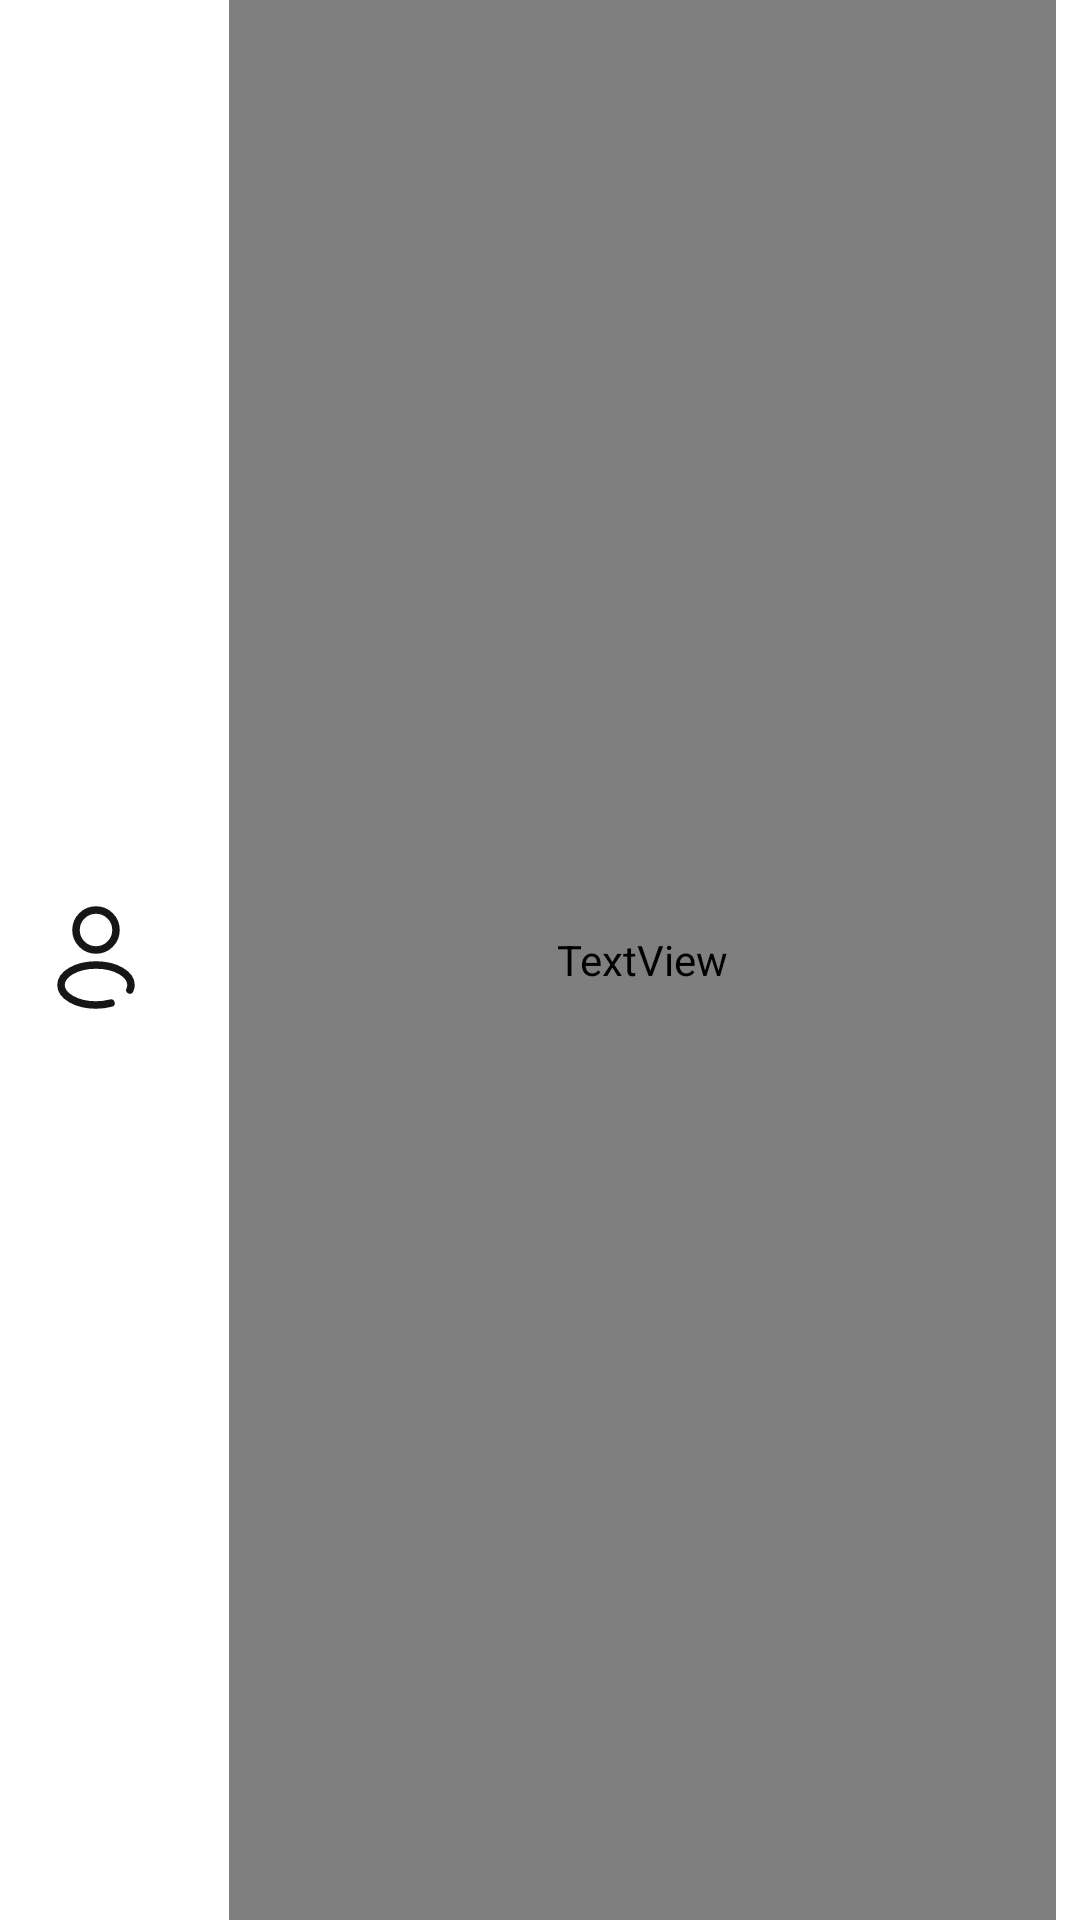

Locate icon controls on the screen. Image size 1080w x 1920h, boxes as bbox(x1, y1, x2, y2).
user: bbox(57, 906, 135, 1009)
